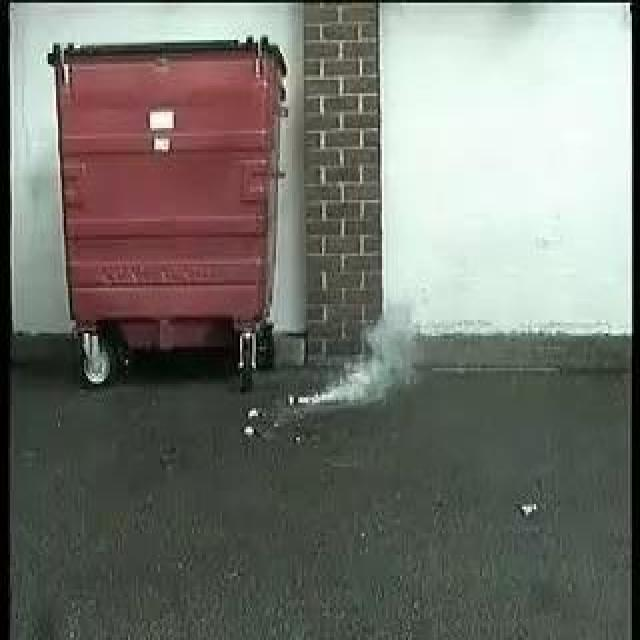Smoke: (296, 306, 408, 411)
